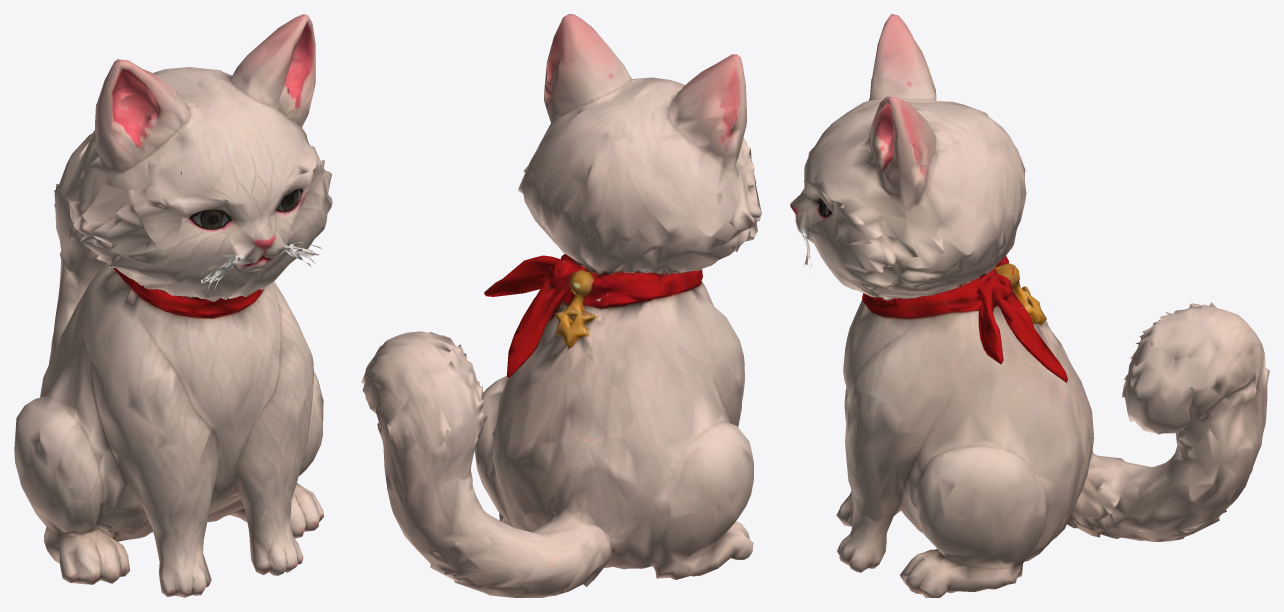
Rendered from white-cat-red-scarf.glb.
3 renders of one model, left to right at view 1: azimuth 30°, elevation 25°; view 2: azimuth 150°, elevation 25°; view 3: azimuth 270°, elevation 25°, orthographic. The views are drawn at different scales.
Bounding box in the file's own units: 0.9887 × 1.67 × 1.49.
Materials: 1 (1 with a texture image).
